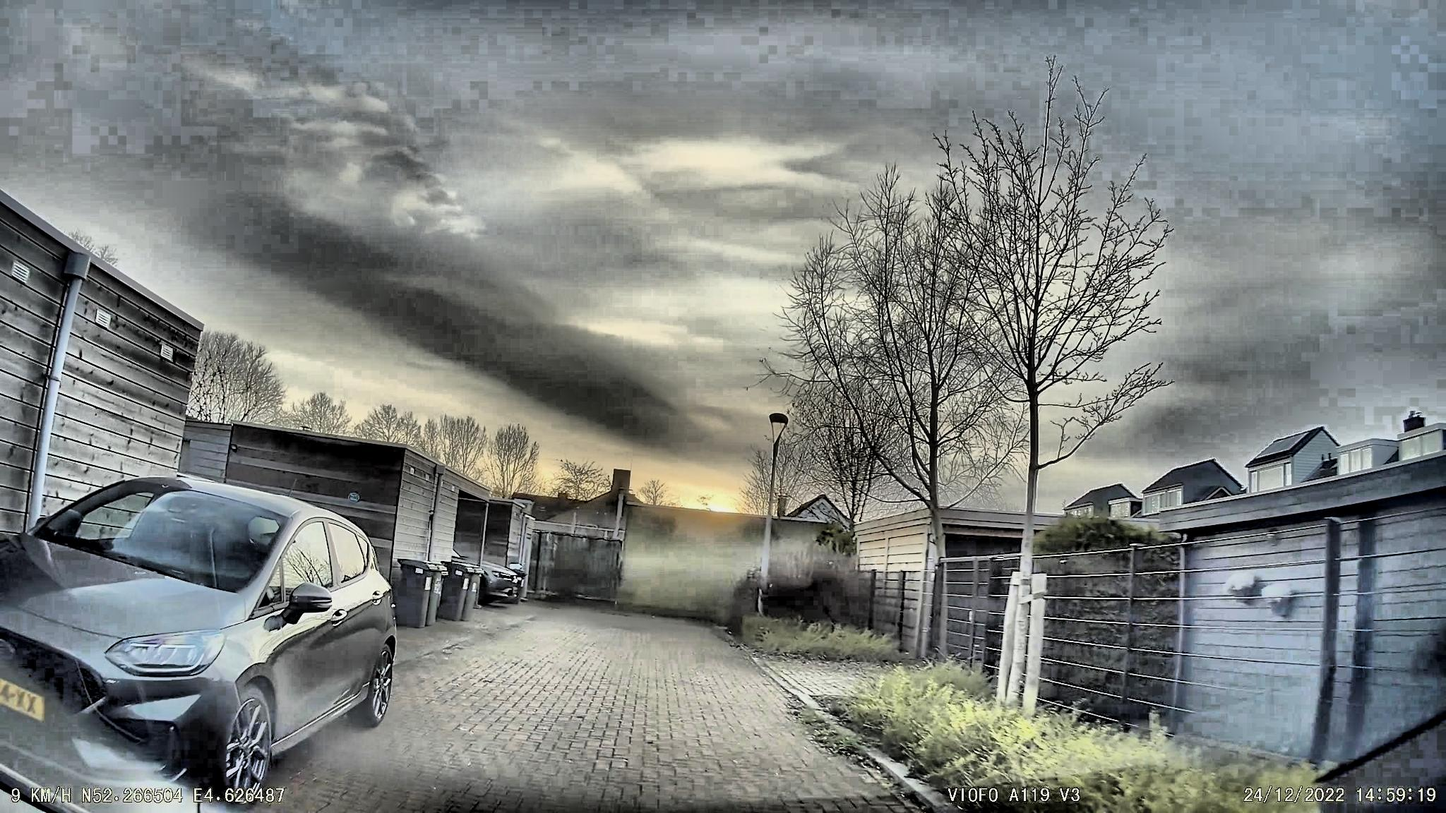Roads: (178, 607, 927, 813)
